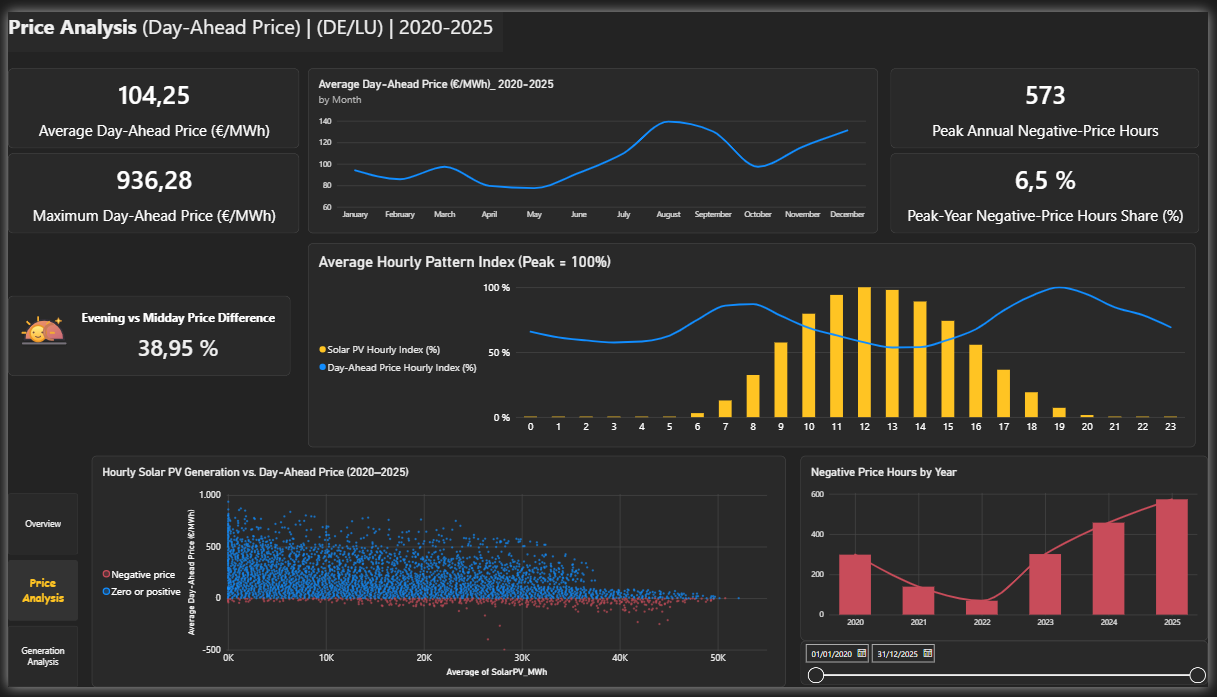

The page's visual inventory and layout, read from the dashboard file:
{"tool":"powerbi","page":{"name":"Price Analysis","canvas":[1920,1080],"ordinal":1},"visuals":[{"type":"slicer","fields":{"Values":["DimHour.DateTime"]},"box":[1268,1006,652,70],"z":0},{"type":"lineChart","title":"Average Day-Ahead Price (€/MWh)_ 2020-2025","fields":{"Category":["DimHour.DateTime.Variation.Date Hierarchy.Month"],"Y":["Price_2025.Average Day-Ahead Price (€/MWh)"]},"box":[480,90,912,264],"z":1000},{"type":"lineStackedColumnComboChart","title":"Average Hourly Pattern Index (Peak = 100%)","fields":{"Category":["DimHour.Hour of Day"],"Y":["Generation_2020_2025.Solar PV Hourly Index (%)"],"Y2":["Price_2020_2025.Day-Ahead Price Hourly Index (%)"]},"box":[480,370,1420,326],"z":2000},{"type":"scatterChart","title":"Hourly Solar PV Generation vs. Day-Ahead Price (2020–2025)","fields":{"Category":["DimHour.HourIndex"],"Series":["Price_2020_2025.Price Sign"],"X":["Avg(Generation_2025.SolarPV_MWh)"],"Y":["Price_2025.Average Day-Ahead Price (€/MWh)"]},"box":[134,710,1110,370],"z":3000},{"type":"textbox","box":[0,0,792,64],"z":4000},{"type":"lineStackedColumnComboChart","title":"Negative Price Hours by Year ","fields":{"Category":["DimHour.DateTime.Variation.Date Hierarchy.Year"],"Y":["Price_2020_2025.Negative Price Hours (Zero)"],"Y2":["Price_2020_2025.Negative Price Hours (Zero)"]},"box":[1268,710,652,296],"z":6000},{"type":"pageNavigator","box":[0,770,112,310],"z":7000},{"type":"cardVisual","fields":{"Data":["Price_2020_2025.Average Day-Ahead Price (€/MWh)","Price_2020_2025.Maximum Day-Ahead Price (€/MWh)"]},"box":[0,90,466,264],"z":8000},{"type":"cardVisual","fields":{"Data":["Price_2020_2025.Negative Price Hours - Display","Price_2020_2025.Negative-price hours (%)"]},"box":[1412,90,494,264],"z":9000},{"type":"cardVisual","fields":{"Data":["Price_2020_2025.Evening vs Midday Price Difference (%)"]},"box":[0,454,452,128],"z":9001}]}

Visuals, with their boxes in screenshot pixels (x1, y1, x2, y2), scaled from the page's 1920x1080 canvas onto the 1217x697 screenshot:
slicer - DimHour.DateTime: locate(804, 649, 1216, 694)
"Average Day-Ahead Price (€/MWh)_ 2020-2025" lineChart: locate(304, 58, 882, 228)
"Average Hourly Pattern Index (Peak = 100%)" lineStackedColumnComboChart: locate(304, 239, 1204, 449)
"Hourly Solar PV Generation vs. Day-Ahead Price (2020–2025)" scatterChart: locate(85, 458, 789, 696)
textbox: locate(0, 0, 502, 41)
"Negative Price Hours by Year " lineStackedColumnComboChart: locate(804, 458, 1216, 649)
pageNavigator: locate(0, 497, 71, 696)
cardVisual - Price_2020_2025.Average Day-Ahead Price (€/MWh) x Price_2020_2025.Maximum Day-Ahead Price (€/MWh): locate(0, 58, 295, 228)
cardVisual - Price_2020_2025.Negative Price Hours - Display x Price_2020_2025.Negative-price hours (%): locate(895, 58, 1208, 228)
cardVisual - Price_2020_2025.Evening vs Midday Price Difference (%): locate(0, 293, 287, 376)
